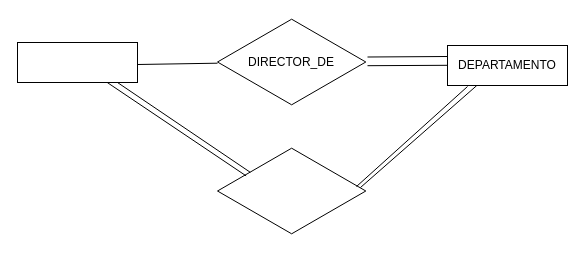
The diagram is 585 pixels wide and 253 high, and some of its shapes have lost their labels. Here are the shapes that lost their labels. From the top down, the centre of each, then its label:
(77,62): PROFESSOR
(291,191): TRABALHA_EM
